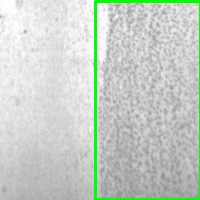pitted_surface: (95, 1, 200, 199)
